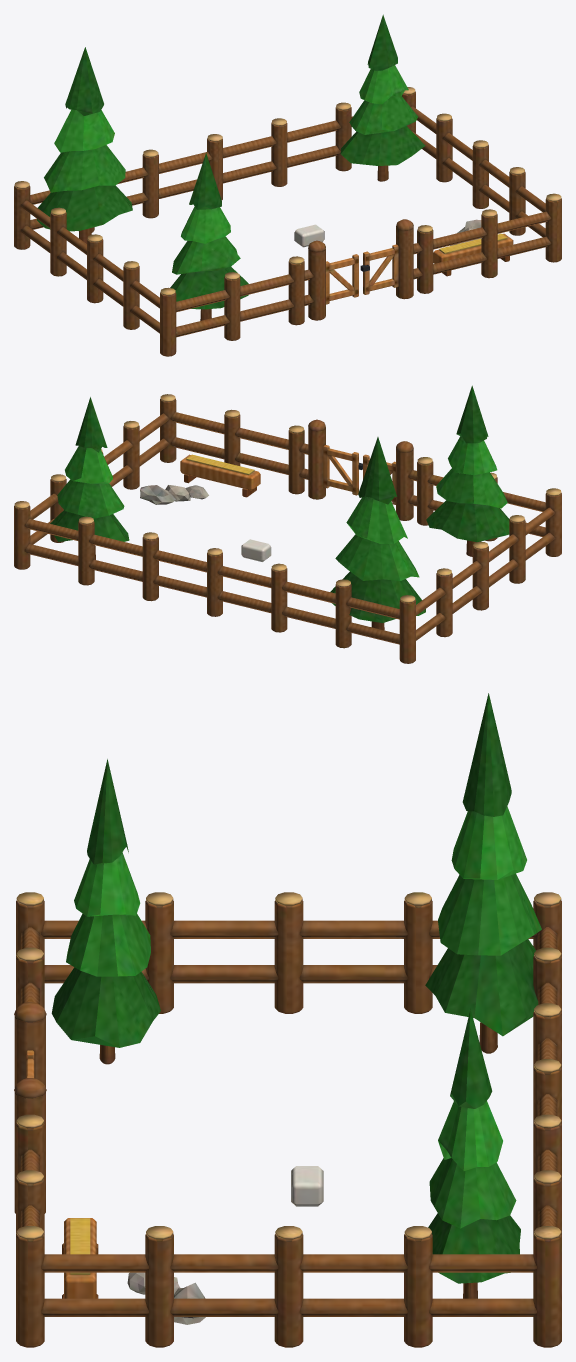
File: elk_woods.glb
3 views of the same model, one above another, from view 1: azimuth 30°, elevation 25°; view 2: azimuth 150°, elevation 25°; view 3: azimuth 270°, elevation 25° (orthographic). The views are drawn at different scales.
Parts seen in each view (by area): view 1: elk_woods, gate1, gate0; view 2: elk_woods, gate1; view 3: elk_woods.
Boxes of the visible parts, left/top/right/bottom form: elk_woods: left=14, top=14, right=561, bottom=356; gate1: left=360, top=244, right=398, bottom=294; gate0: left=326, top=254, right=358, bottom=304; elk_woods: left=14, top=385, right=561, bottom=663; gate1: left=323, top=445, right=362, bottom=495; elk_woods: left=14, top=693, right=561, bottom=1347.
Size of the model in its own units: 3 by 1.44 by 2.01.
1 material, 1 textured.
